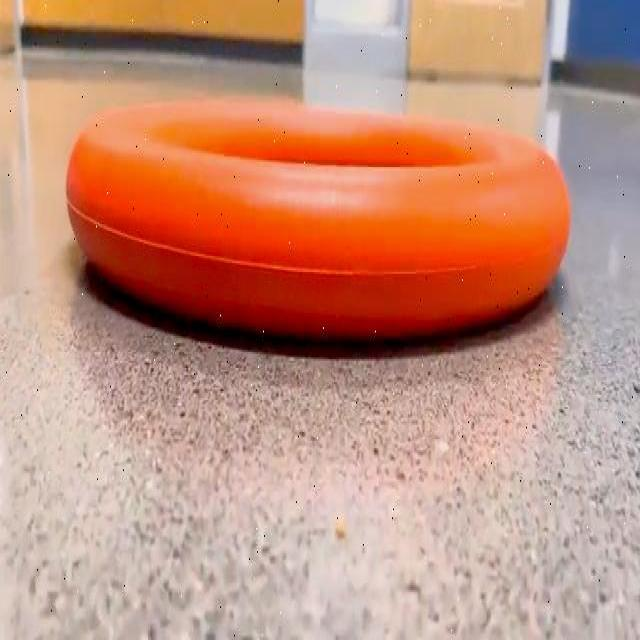note: (68, 100, 570, 337)
